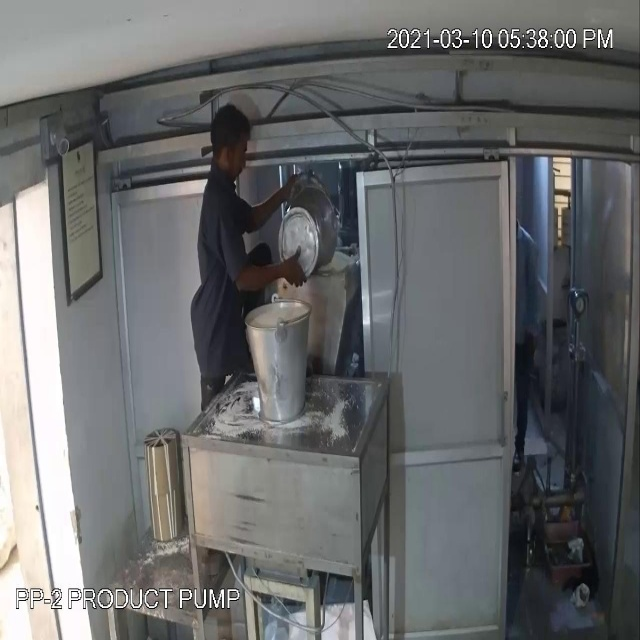Sin_guantes: (222, 237, 306, 304), (242, 162, 304, 239)
